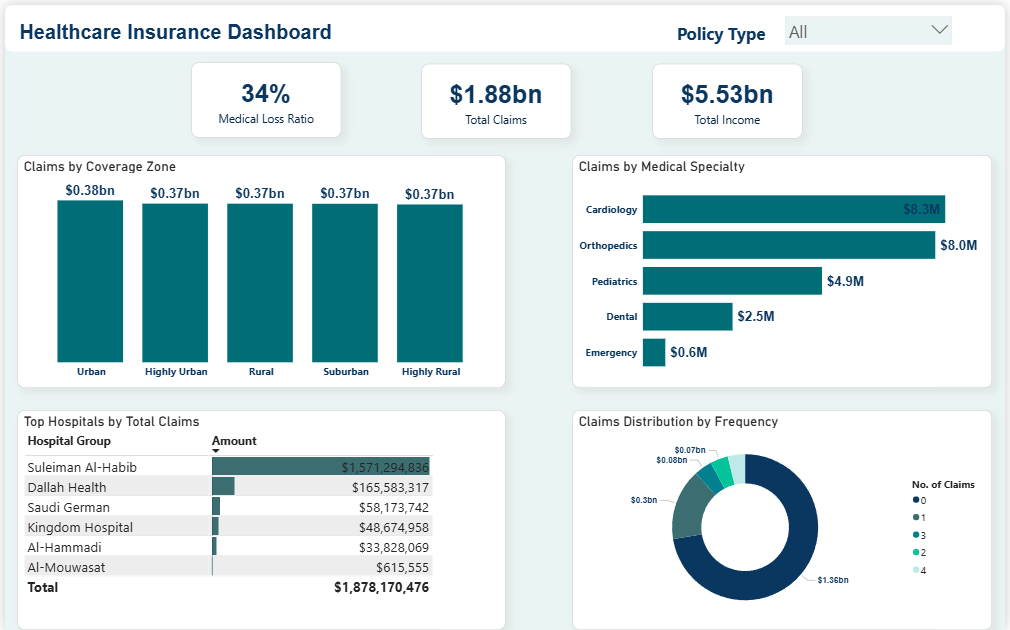

The dashboard page shown, as its layout file describes it:
{"tool":"powerbi","page":{"name":"Page 1","canvas":[1600,1000],"ordinal":0},"visuals":[{"type":"card","fields":{"Values":["_Measures.Medical_Loss_Ratio"]},"box":[298.2,92.5,240,120],"z":0},{"type":"card","fields":{"Values":["_Measures.Total_Claims"]},"box":[666.9,95,240,120],"z":1000},{"type":"card","fields":{"Values":["_Measures.Total_Income"]},"box":[1035.5,95,240,120],"z":2000},{"type":"clusteredBarChart","title":"Claims by Medical Specialty","fields":{"Category":["Insurance Policies.Medical_Specialty"],"Y":["_Measures.Total_Claims"]},"box":[907.7,240.4,671.2,373.1],"z":3000},{"type":"columnChart","title":"Claims by Coverage Zone","fields":{"Category":["Insurance Policies.coverage_zone"],"Y":["_Measures.Total_Claims"]},"box":[19.2,240.4,780.8,373.1],"z":4000},{"type":"donutChart","title":"Claims Distribution by Frequency","fields":{"Category":["Insurance Policies.claim_freq"],"Y":["_Measures.Total_Claims"]},"box":[907.7,648.1,671.2,351.9],"z":5000},{"type":"tableEx","title":"Top Hospitals by Total Claims","fields":{"Values":["Insurance Policies.hospital_group","_Measures.Total_Claims"]},"box":[19.2,648.1,780.8,351.9],"z":6000},{"type":"shape","box":[0,0,1600,75],"z":6500},{"type":"slicer","fields":{"Values":["Insurance Policies.policy_type"]},"box":[1238.5,7.7,286.5,59.6],"z":7000},{"type":"textbox","box":[18.4,20.1,566.4,48.6],"z":9000},{"type":"textbox","box":[1070.7,21.8,209.5,51.9],"z":10000}]}

Visuals, with their boxes in screenshot pixels (x1, y1, x2, y2), scaled from the page's 1600x1000 canvas onto the 1010x630 screenshot:
card - _Measures.Medical_Loss_Ratio: [x1=188, y1=58, x2=340, y2=134]
card - _Measures.Total_Claims: [x1=421, y1=60, x2=572, y2=135]
card - _Measures.Total_Income: [x1=654, y1=60, x2=805, y2=135]
"Claims by Medical Specialty" clusteredBarChart: [x1=573, y1=151, x2=997, y2=387]
"Claims by Coverage Zone" columnChart: [x1=12, y1=151, x2=505, y2=387]
"Claims Distribution by Frequency" donutChart: [x1=573, y1=408, x2=997, y2=629]
"Top Hospitals by Total Claims" tableEx: [x1=12, y1=408, x2=505, y2=629]
shape: [x1=0, y1=0, x2=1009, y2=47]
slicer - Insurance Policies.policy_type: [x1=782, y1=5, x2=963, y2=42]
textbox: [x1=12, y1=13, x2=369, y2=43]
textbox: [x1=676, y1=14, x2=808, y2=46]
